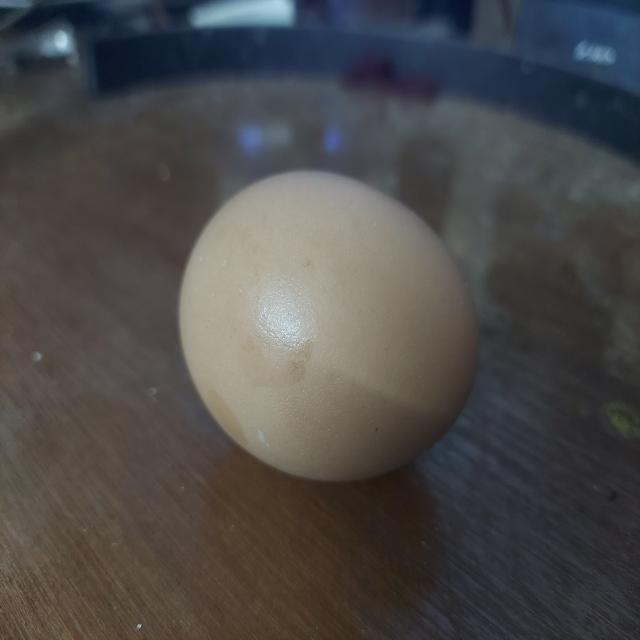egg: (166, 162, 492, 486)
